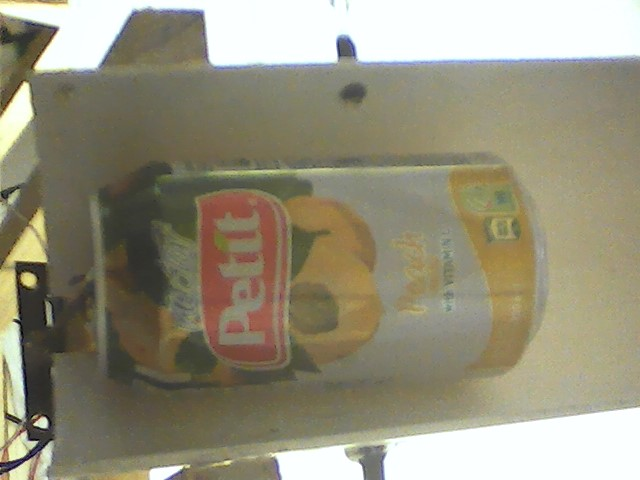lata: (83, 148, 556, 397)
